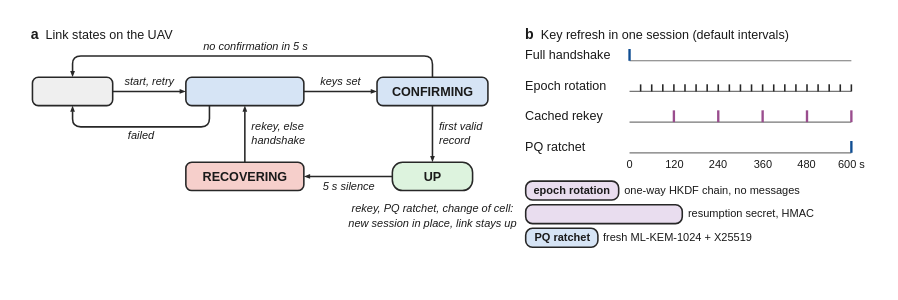
This 898x300 diagram has some shape labels left out. The shapes that lost their labels are listed below. From the top down, each one's centre as x and y in pixels, then its label:
the point at 72,91: DOWN
the point at 244,91: HANDSHAKING
the point at 603,213: 1-RTT Cached RapidRekey
